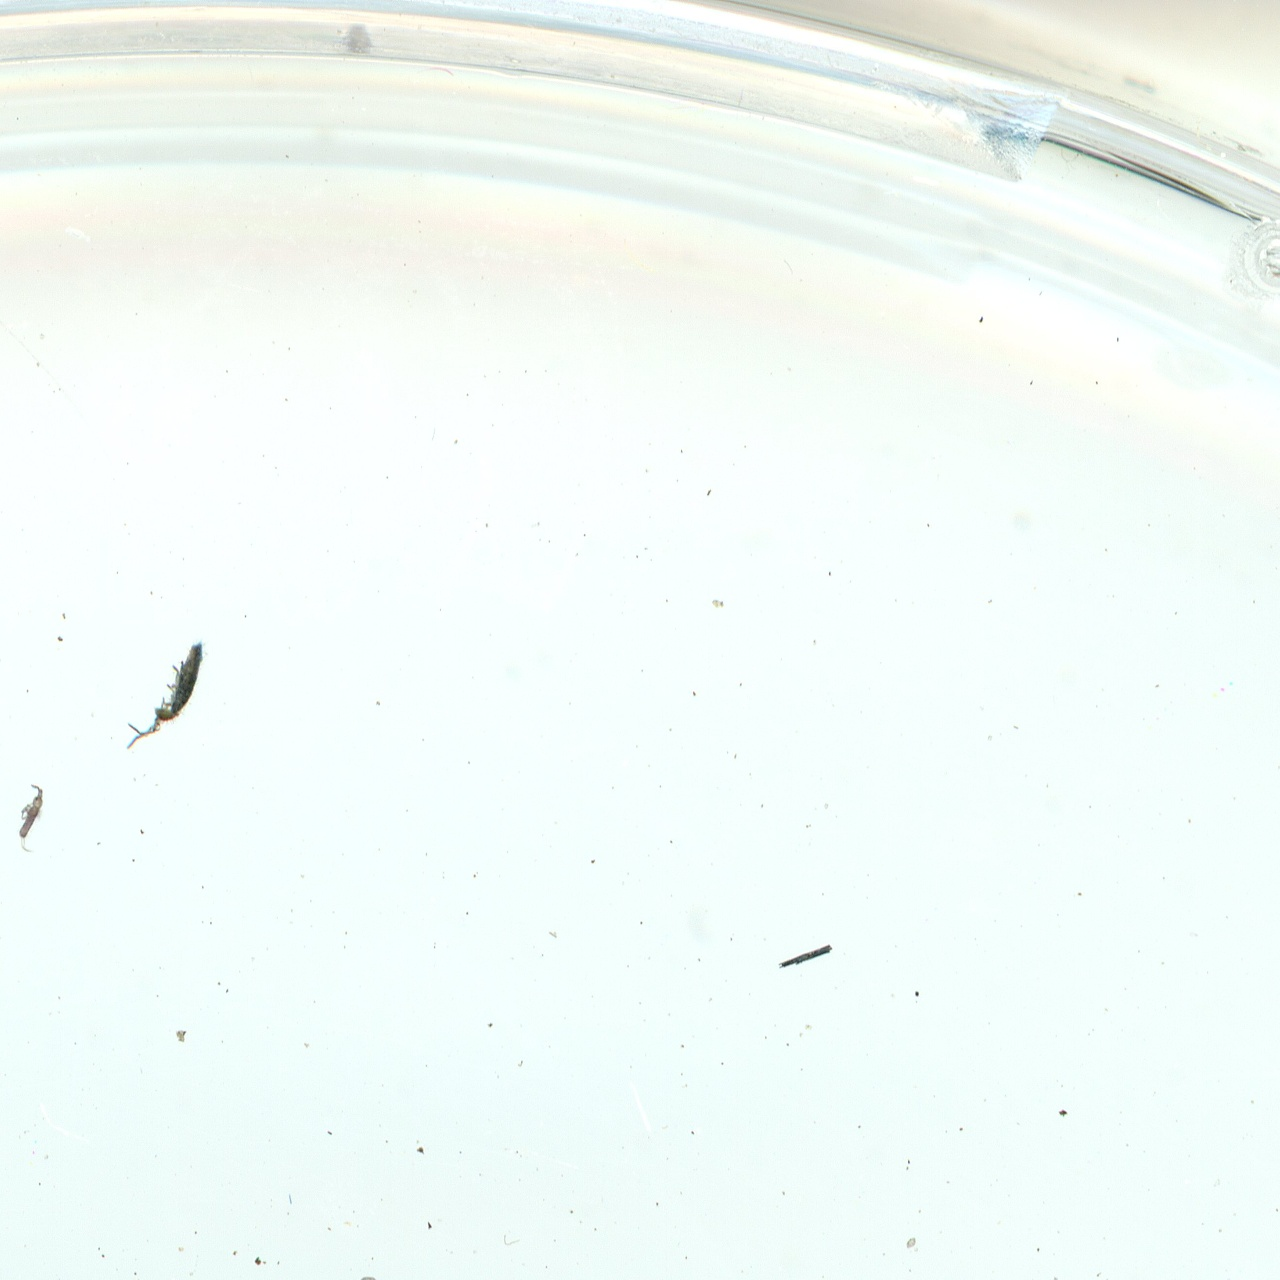arthropod: (112, 622, 219, 769), (16, 782, 48, 856)
